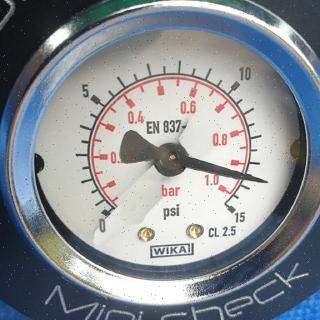gauge: (0, 0, 320, 320), (152, 140, 188, 176), (95, 196, 126, 227), (217, 194, 247, 226), (256, 175, 272, 187)
